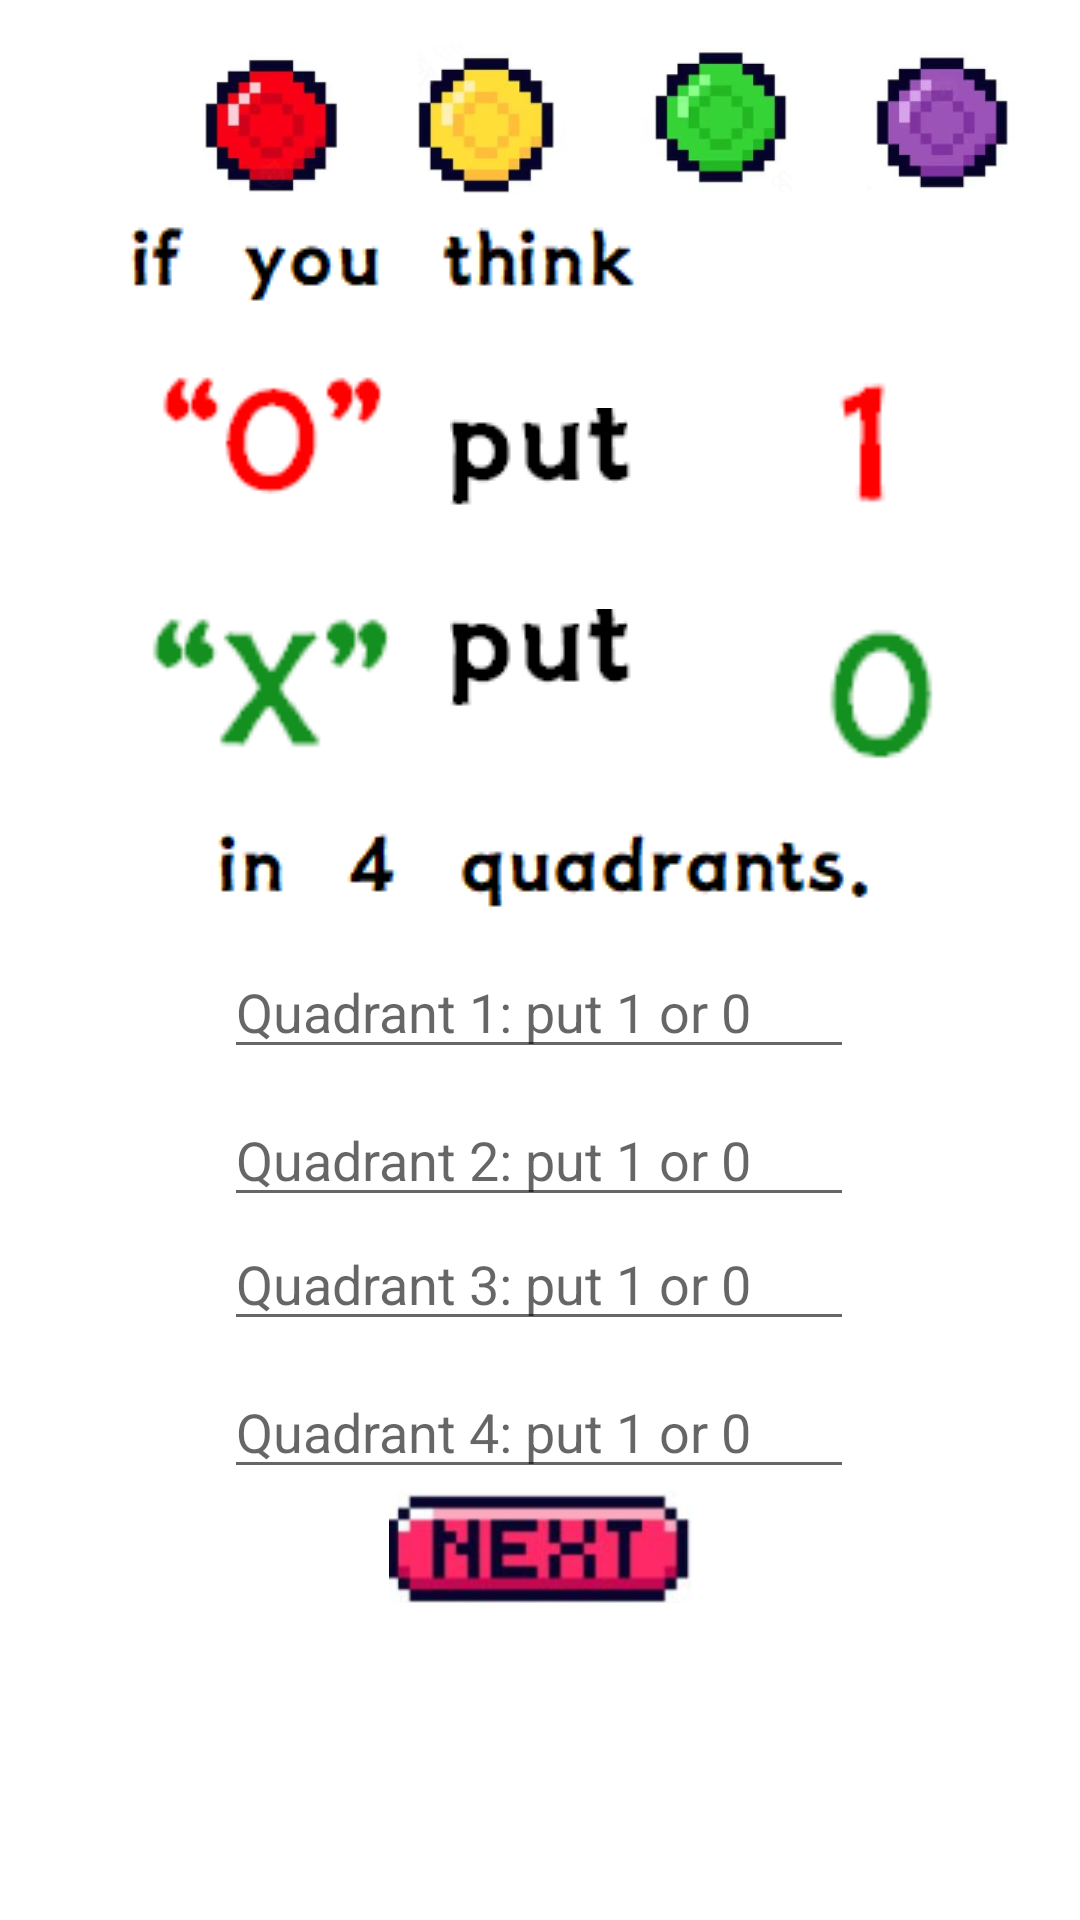

Icon click points for this 1080px x 1920px phone screenshot, format [x,y]:
yello: [486,125]
